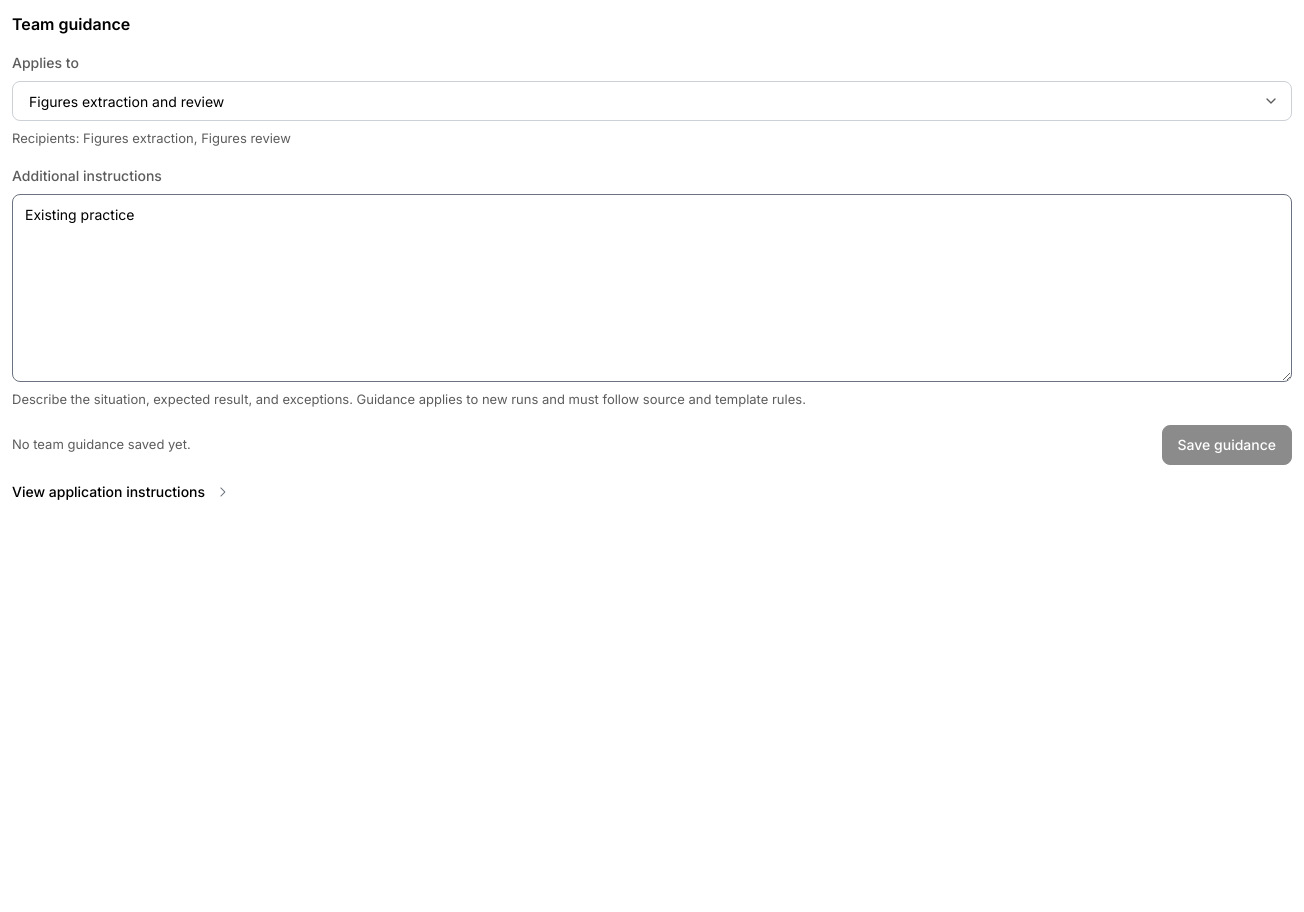
Test case: shows saved guidance, saves changes, and loads source text only when opened
This screenshot has width=1304, height=912.
Expected: the button "Save guidance" is disabled, [1162, 425, 1292, 465]
Replace the text in the text box labelled "Additional instructions" with "New practice" at (652, 288), box [12, 194, 1292, 382]
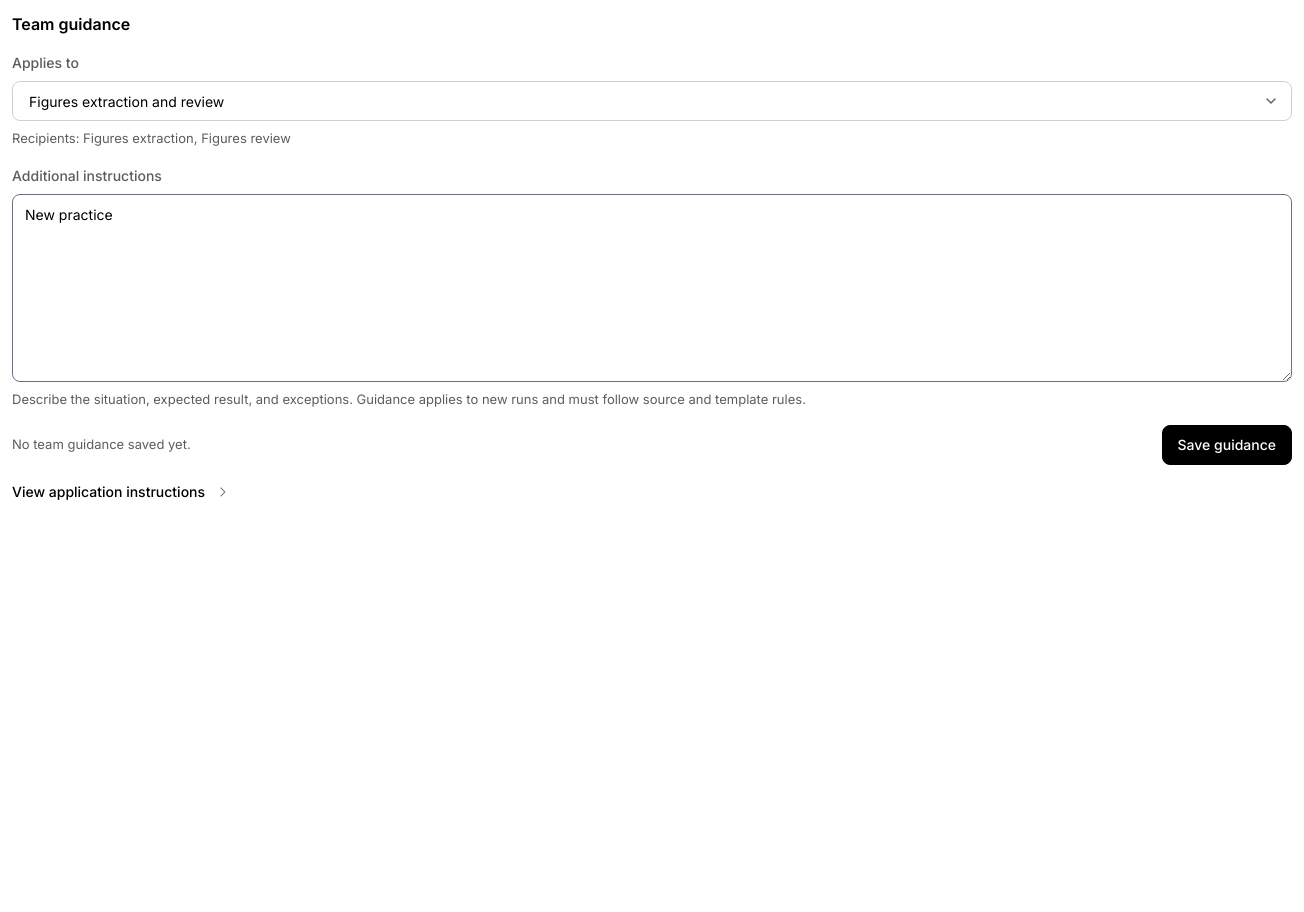
Click the button "Save guidance".
click(1227, 445)  # box [1162, 425, 1292, 465]
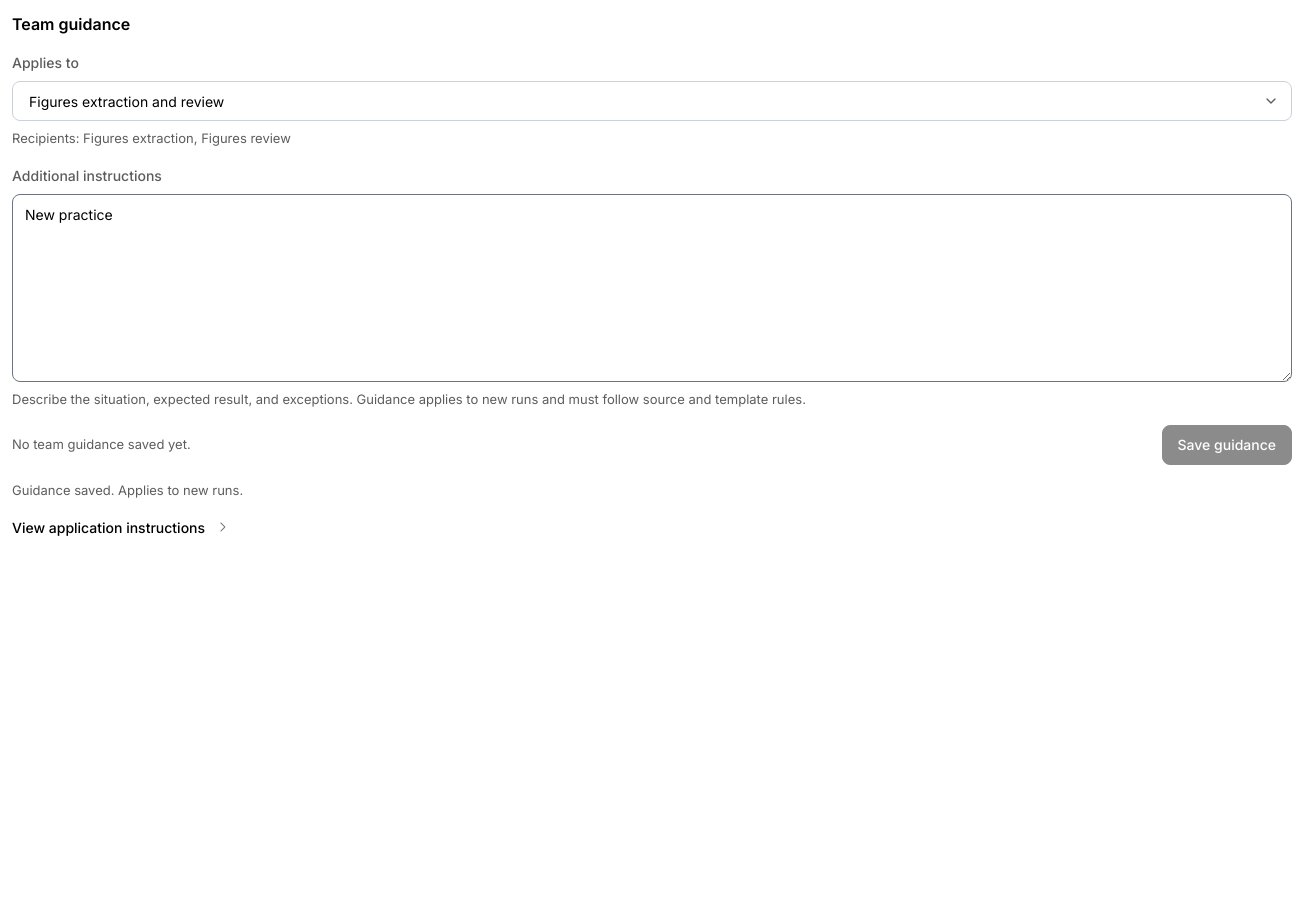
Now the text "Guidance saved. Applies to new runs." is shown, box [12, 482, 243, 498]
Click the heading "View application instructions".
click(109, 527)  # box [12, 518, 205, 536]
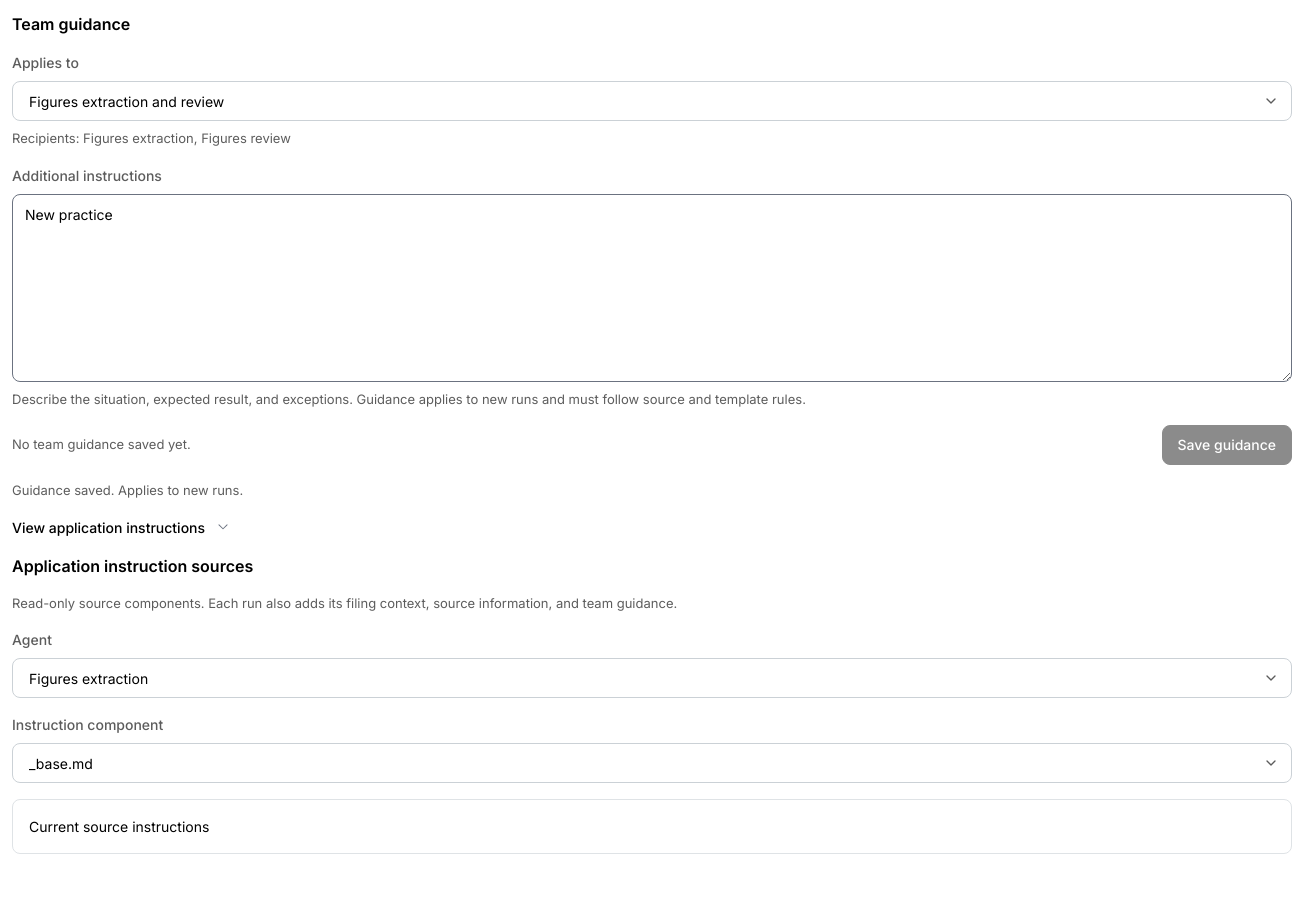
Now the text "Current source instructions" is shown, box [12, 799, 1292, 854]
